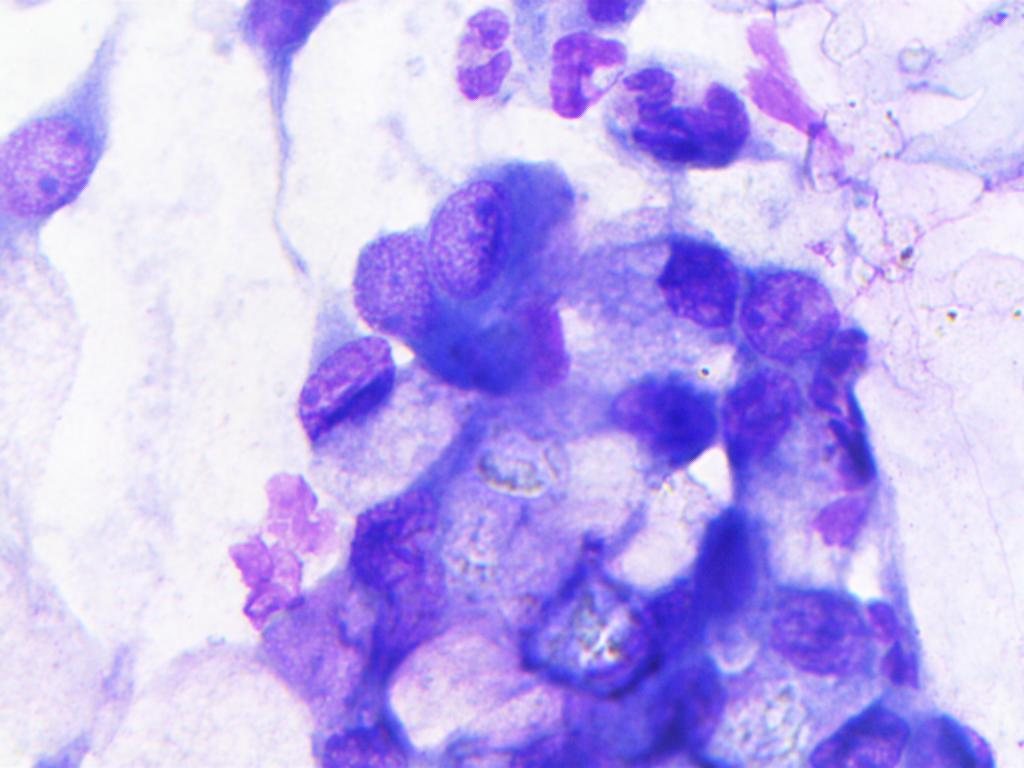artifact: (228, 452, 343, 634), (604, 65, 759, 179), (674, 509, 778, 633)
epithelial: (0, 76, 131, 253), (567, 219, 742, 336), (708, 350, 817, 474)
goblet_cell: (282, 331, 449, 513), (421, 158, 574, 306), (604, 354, 719, 477), (341, 223, 435, 336), (781, 693, 919, 768)
lymphocyte: (509, 526, 677, 701), (744, 570, 898, 692), (738, 250, 849, 359), (902, 694, 1002, 768)
neutrophil: (440, 2, 529, 122), (529, 24, 627, 122)
